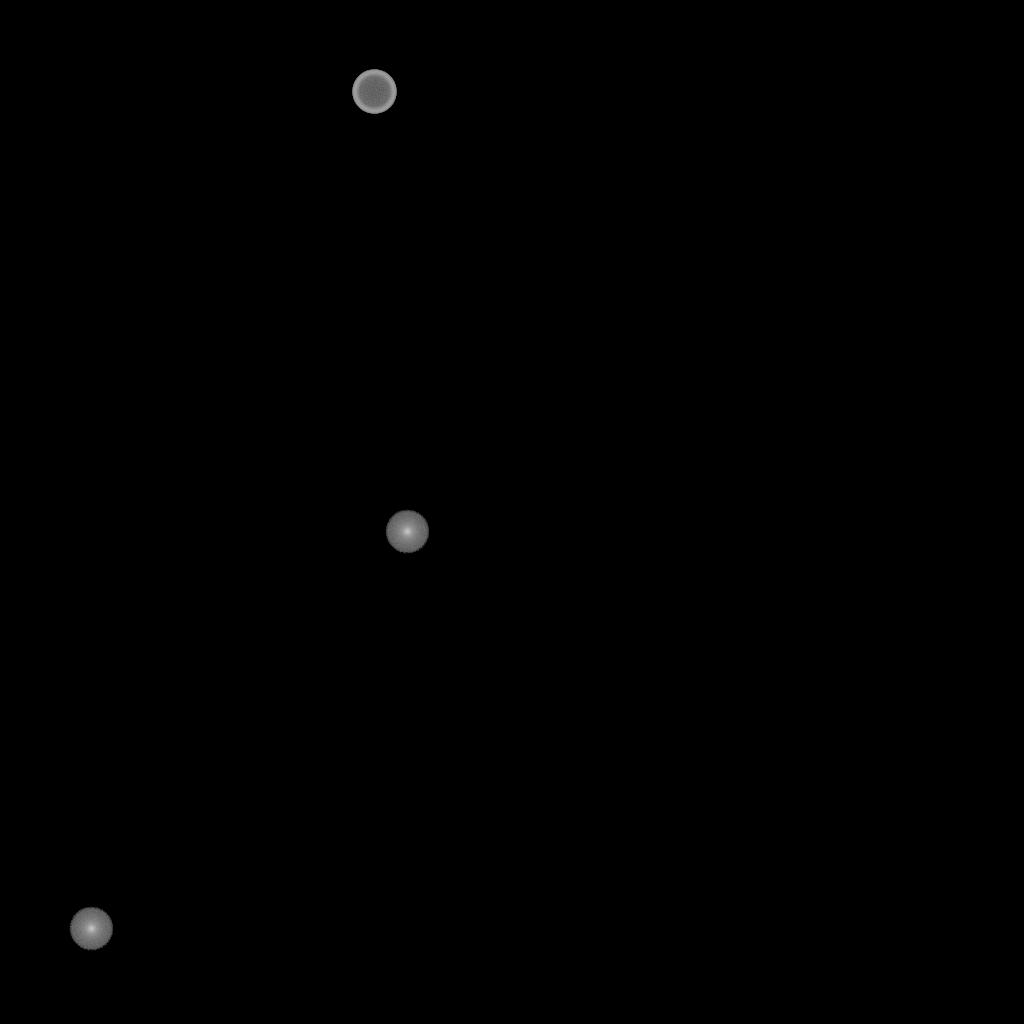depth:-70: (352, 70, 396, 114)
depth:10: (385, 510, 429, 554), (69, 907, 113, 951)
